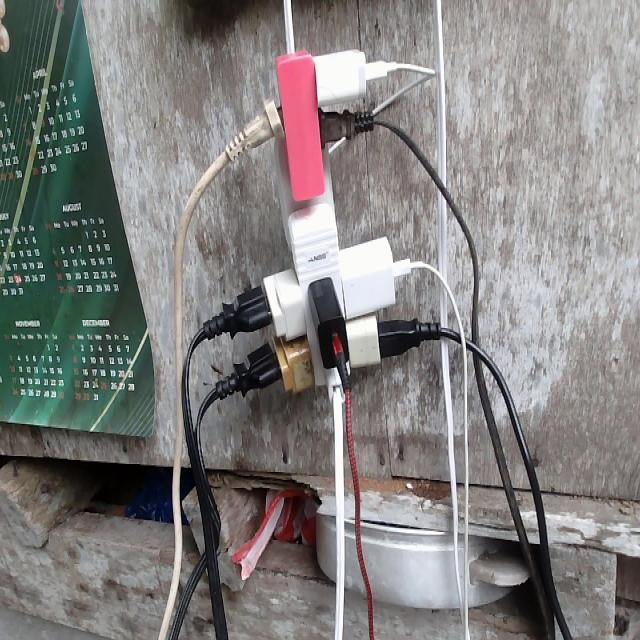-: (192, 44, 445, 409)
